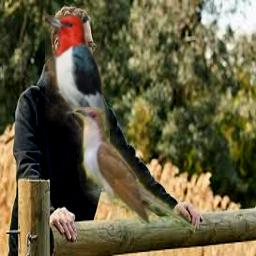Cuckoo: (74, 107, 204, 236)
Woodpecker: (45, 15, 110, 145)
